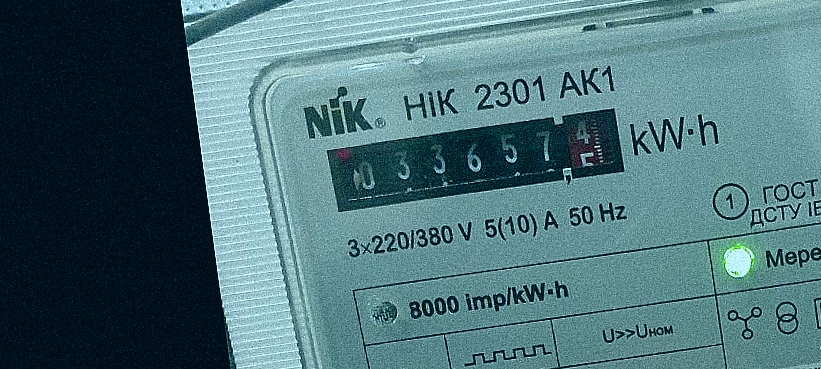0: (353, 155, 379, 194)
3: (390, 146, 414, 183), (426, 140, 448, 178)
4: (571, 116, 594, 148)
5: (495, 129, 521, 167)
6: (460, 139, 484, 176)
7: (532, 126, 554, 164)
screen: (312, 99, 634, 222)
